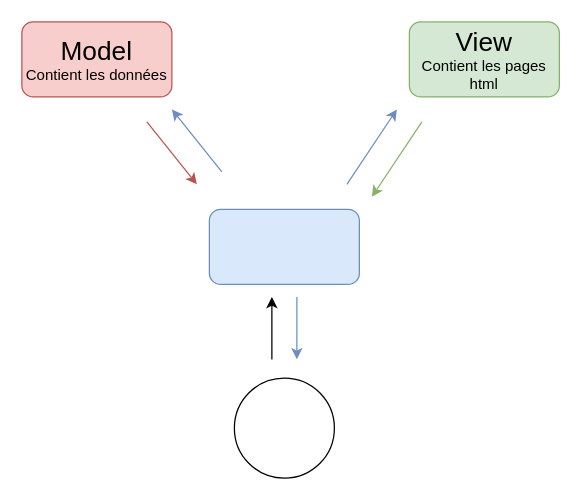
The diagram is 581 pixels wide and 500 high, and some of its shapes have lost their labels. Each missing label, with the centre of its shape:
Controller Traite les actions de l'utilisateur: pixel 283 246
Utilisateur: pixel 283 427
